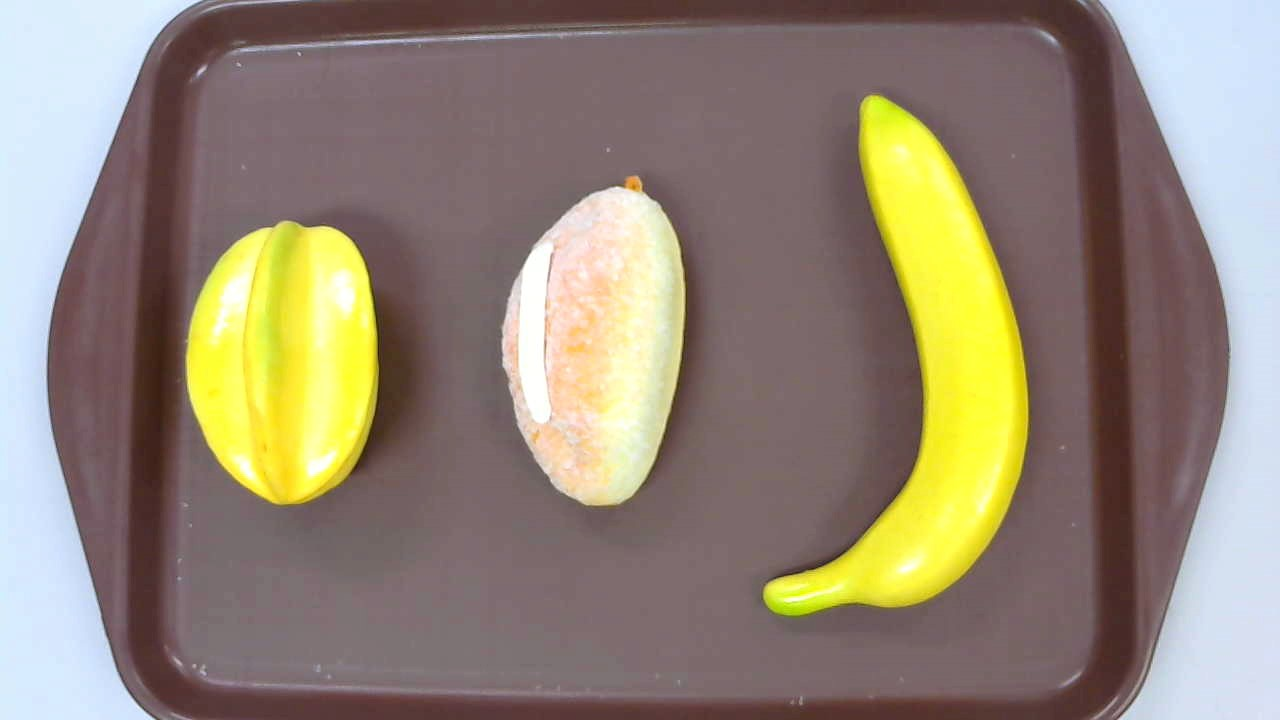banana: (761, 94, 1029, 615)
coconut: (501, 175, 687, 507)
star fruit: (185, 221, 379, 504)
